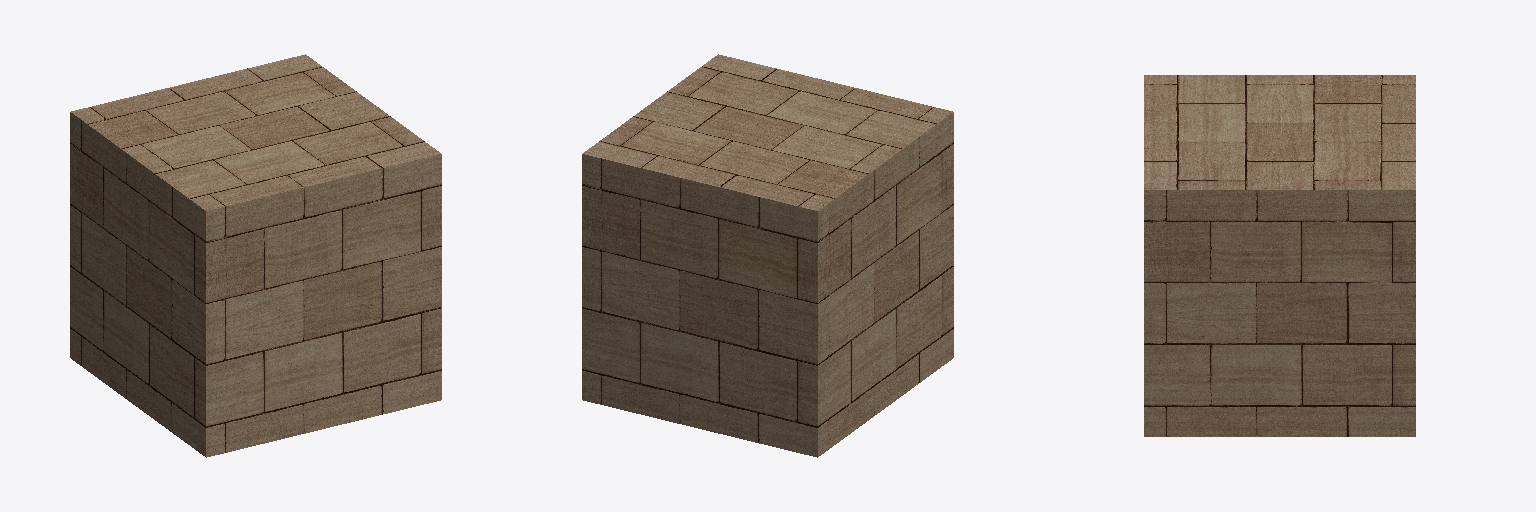
3 renders of one model, left to right at view 1: azimuth 30°, elevation 25°; view 2: azimuth 150°, elevation 25°; view 3: azimuth 270°, elevation 25°, orthographic.
Parts seen in each view (by area): view 1: Box001; view 2: Box001; view 3: Box001.
Part boxes in pixels (bbox=[...]): Box001: bbox=[70, 54, 441, 457]; Box001: bbox=[582, 54, 953, 457]; Box001: bbox=[1144, 75, 1415, 436].
Size of the model in its own units: 100 by 100 by 100.
Materials: 1 (1 with a texture image).